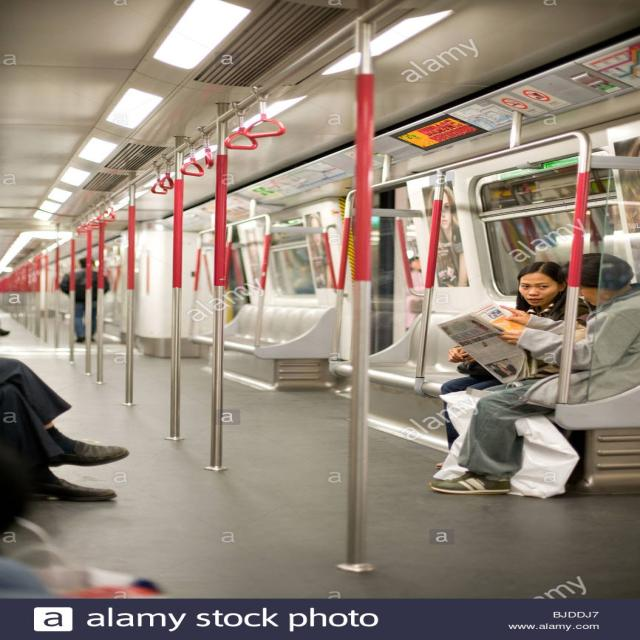body: (432, 260, 596, 472), (434, 260, 596, 472), (0, 358, 131, 518), (443, 499, 639, 569), (384, 183, 473, 319), (59, 258, 111, 344), (305, 213, 339, 293), (0, 326, 13, 336)
